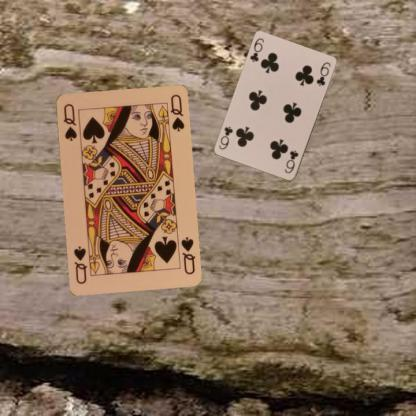6c: (282, 148, 300, 175), (247, 36, 265, 63)
Qs: (178, 234, 196, 276), (60, 101, 78, 142)
